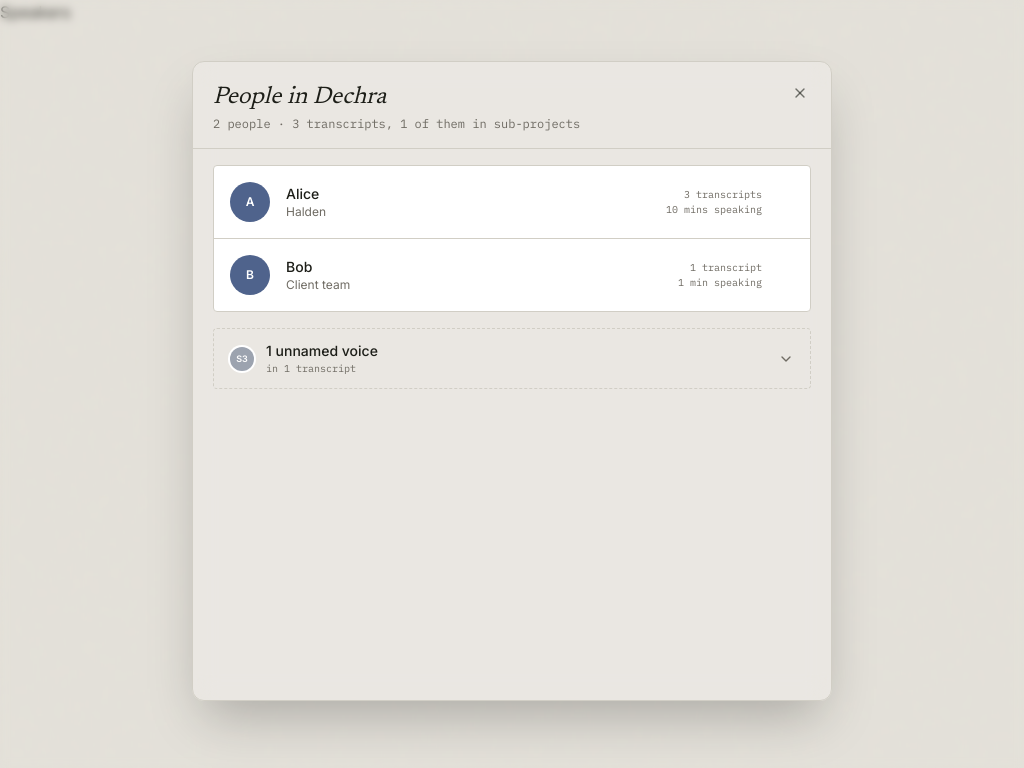
Test: ProjectPeopleDialog › says so when the person is no longer in any transcript in the folder
The image size is (1024, 768).
Click the button "A Alice Halden 3 transcripts 10 mins speaking" at [250, 202], box [214, 166, 810, 239]
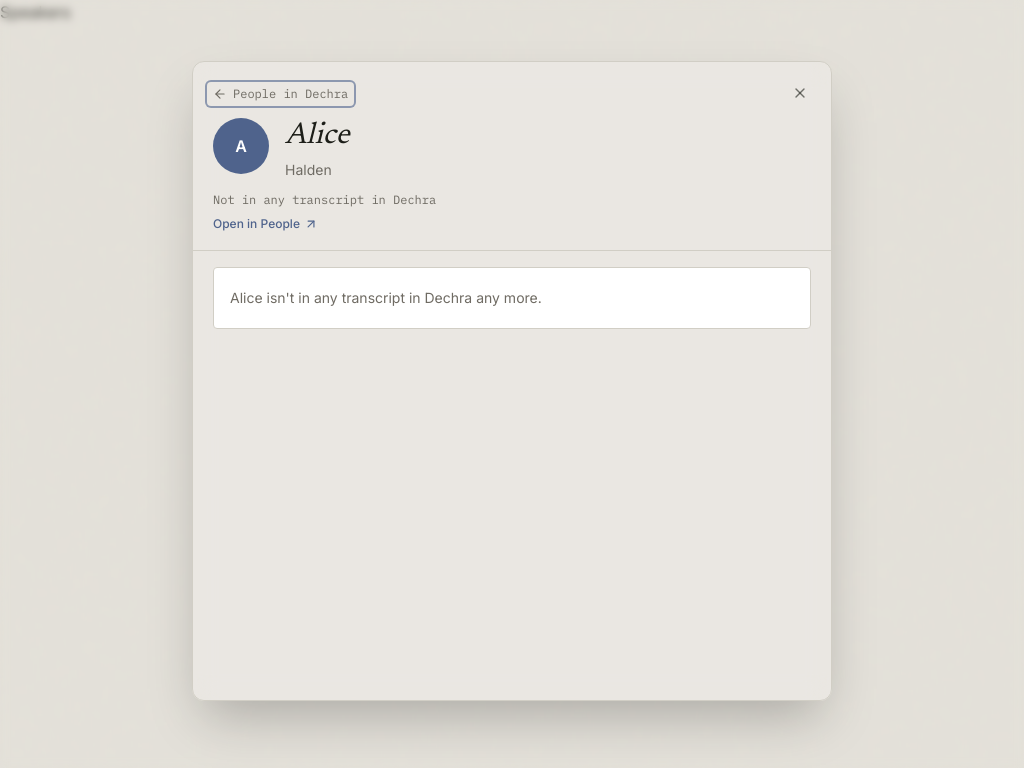
Expected: the text "Not in any transcript in Dechra" is shown, [213, 192, 436, 207]
Expected: the text "Alice isn't in any transcript in Dechra any more." is shown, [230, 289, 542, 306]
